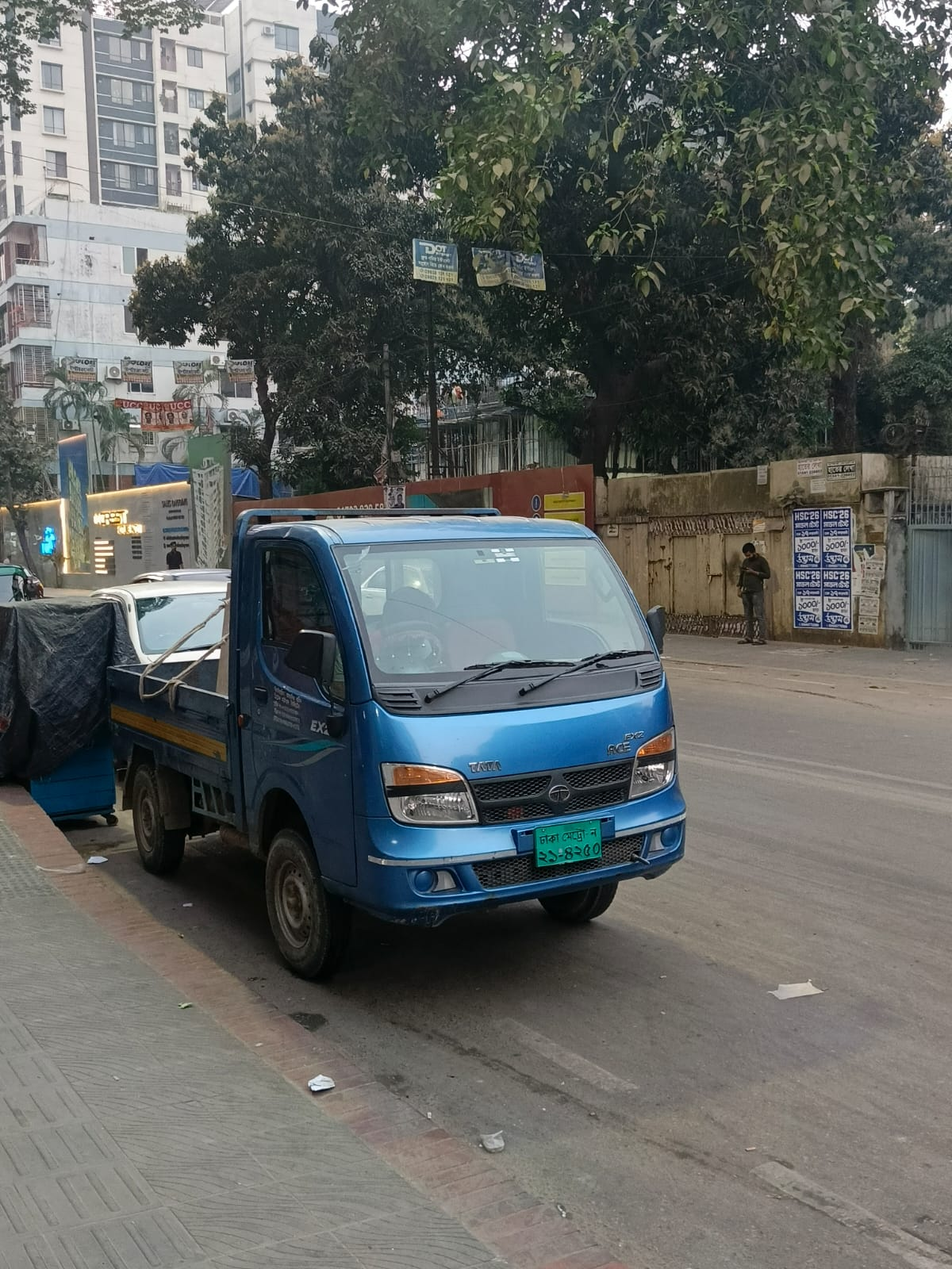Pickup: (103, 450, 732, 989)
